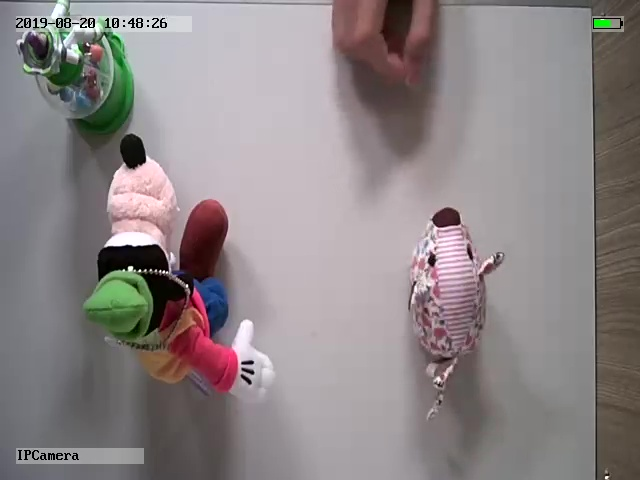buzz: (10, 1, 141, 129)
goofy: (79, 130, 278, 404)
pig: (402, 206, 506, 419)
